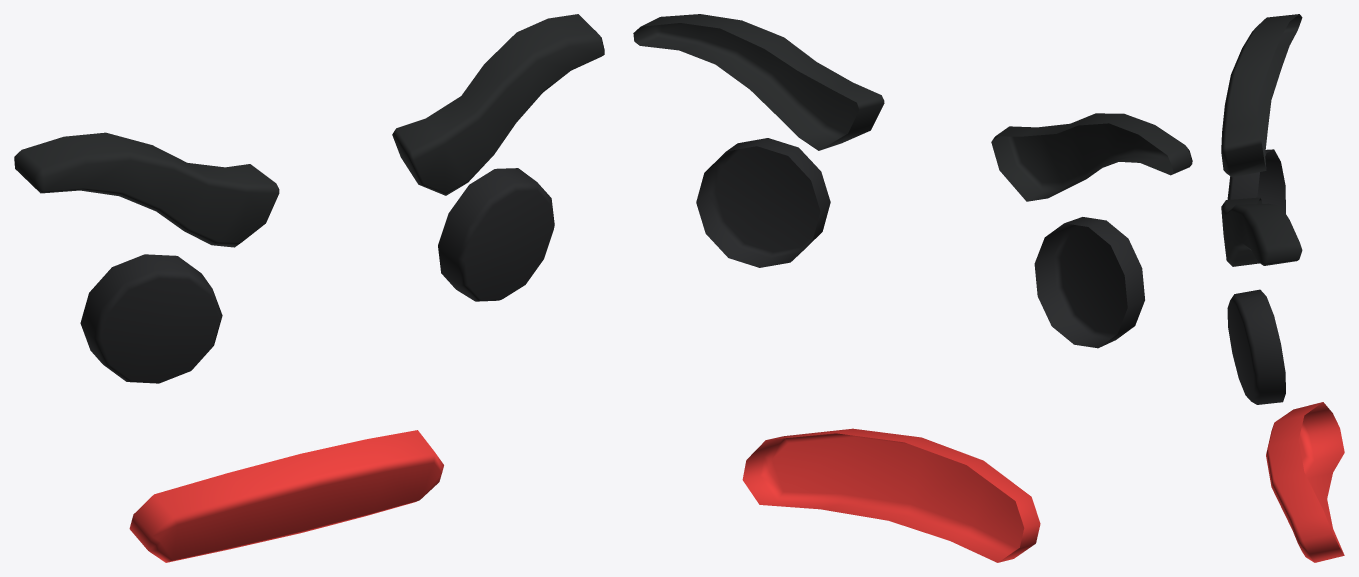
The model's file is Female_Emotion_Angry_01.glb.
The picture shows the model from 3 angles, left to right: view 1: azimuth 30°, elevation 25°; view 2: azimuth 150°, elevation 25°; view 3: azimuth 270°, elevation 25°; orthographic projection. The views are drawn at different scales.
Visible parts, largest first — view 1: Female_Emotion_Angry_01; view 2: Female_Emotion_Angry_01; view 3: Female_Emotion_Angry_01.
Boxes of the visible parts, bbox=[...] form: Female_Emotion_Angry_01: bbox=[14, 14, 604, 562]; Female_Emotion_Angry_01: bbox=[633, 14, 1192, 562]; Female_Emotion_Angry_01: bbox=[1221, 14, 1344, 562].
Size of the model in its own units: 0.2105 by 0.1644 by 0.0471.
Materials: 1 (1 with a texture image).
